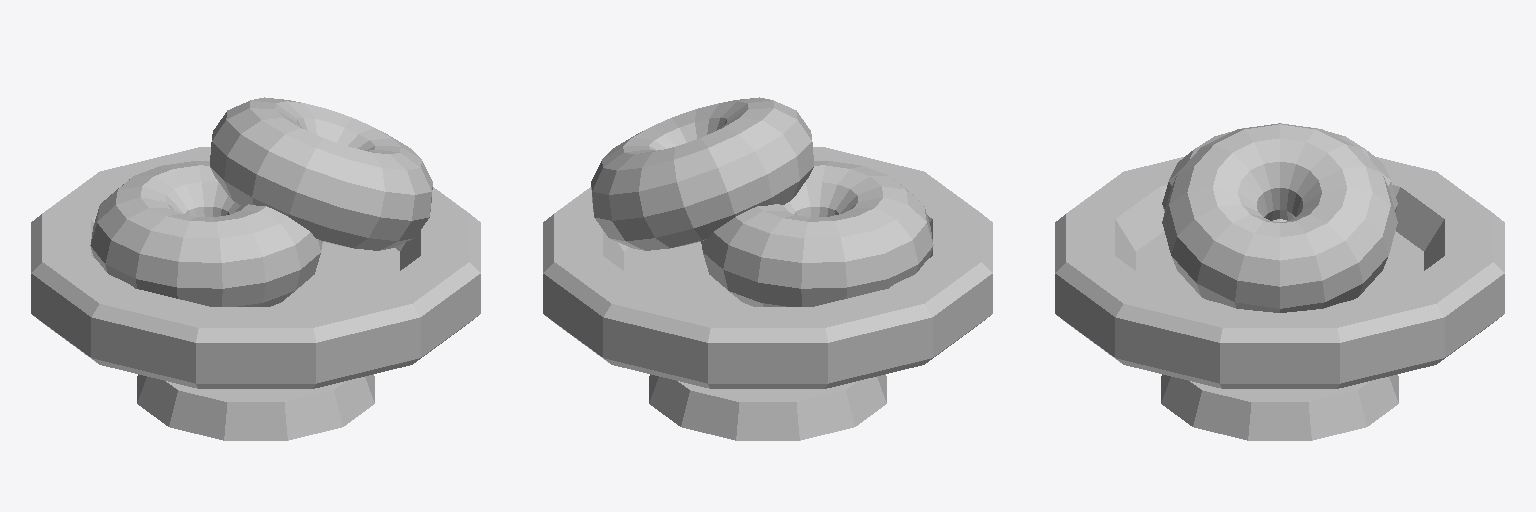
File: pastry_stand_donut.obj
3 views of the same model, side by side, from view 1: azimuth 30°, elevation 25°; view 2: azimuth 150°, elevation 25°; view 3: azimuth 270°, elevation 25° (orthographic).
Visible parts, largest first — view 1: pastry_stand_donut; view 2: pastry_stand_donut; view 3: pastry_stand_donut.
Part boxes in pixels (left/top/right/bottom): pastry_stand_donut: left=31, top=97, right=480, bottom=440; pastry_stand_donut: left=543, top=97, right=992, bottom=440; pastry_stand_donut: left=1055, top=123, right=1504, bottom=440.
Bounding box in the file's own units: 0.8 × 0.5279 × 0.8.